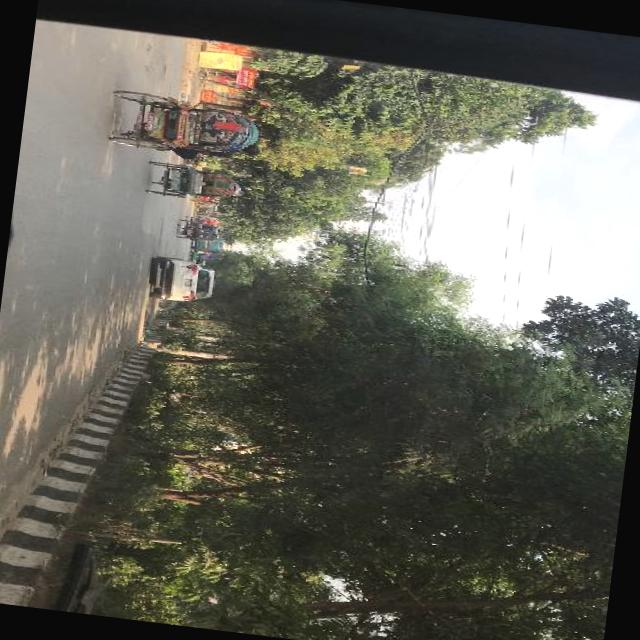bus: (192, 239, 224, 253)
car: (147, 255, 218, 305)
motorcycle: (104, 86, 262, 161), (148, 159, 241, 201), (178, 225, 218, 241), (180, 219, 220, 230), (188, 193, 215, 203), (190, 251, 210, 261)
